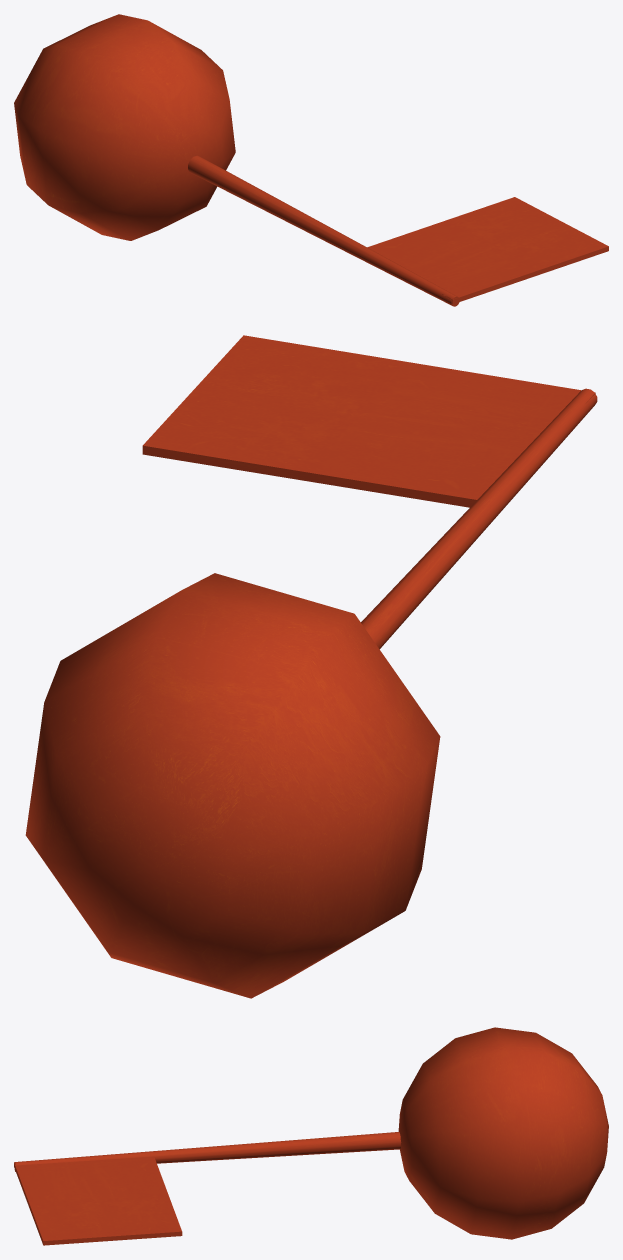
File: mooring.gltf
3 views of the same model, one above another, from view 1: azimuth 30°, elevation 25°; view 2: azimuth 150°, elevation 25°; view 3: azimuth 270°, elevation 25° (orthographic). The views are drawn at different scales.
Visible parts, largest first — view 1: anchorbuoy; view 2: anchorbuoy; view 3: anchorbuoy.
Boxes of the visible parts, box(x1,y1,x2,y2) form: anchorbuoy: box(14, 14, 608, 306); anchorbuoy: box(25, 335, 597, 998); anchorbuoy: box(14, 1027, 608, 1245).
Bounding box in the file's own units: 0.6469 × 0.3694 × 1.06.
